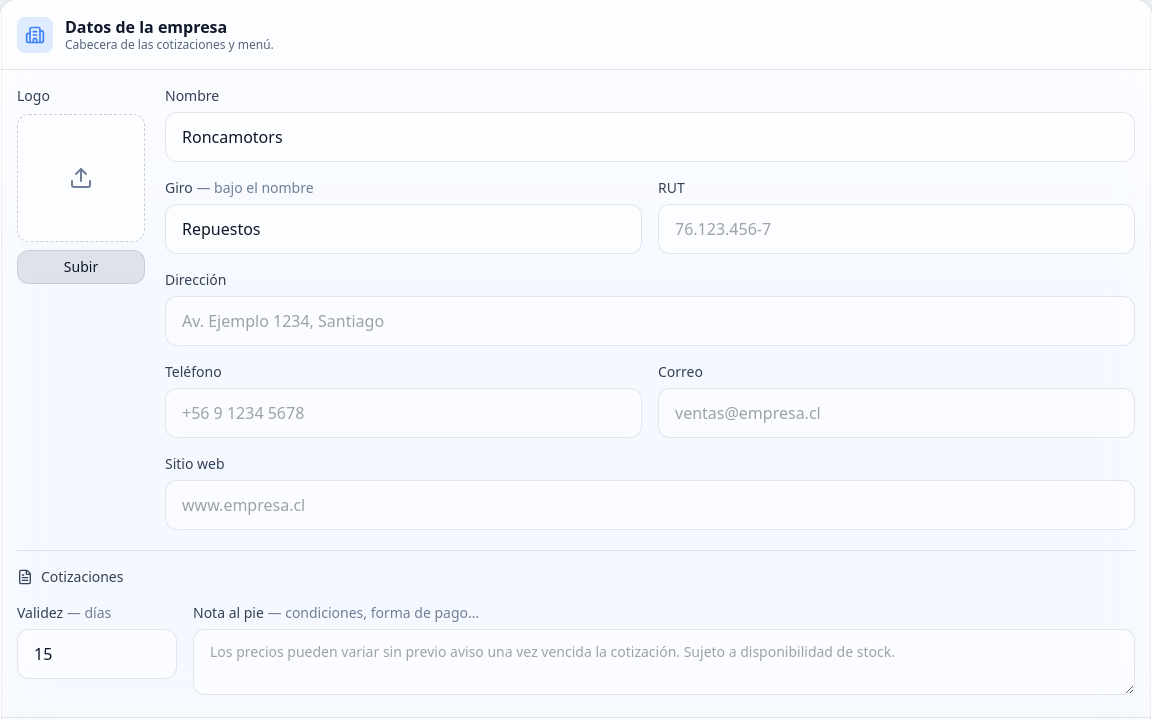
Test: Datos de la empresa › guarda en settings/global con RUT formateado y validez numérica
Type "123456785" into the field labelled "RUT".
click(896, 229); type("123456785")  # box [658,204,1135,254]
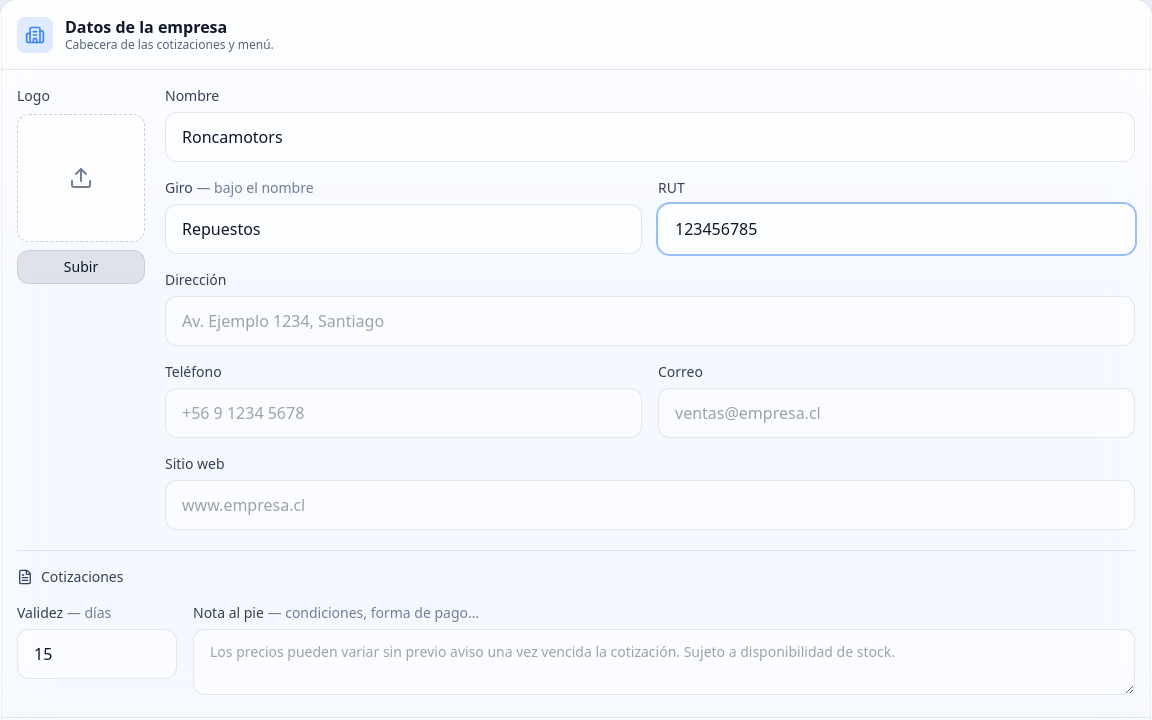
Press Tab
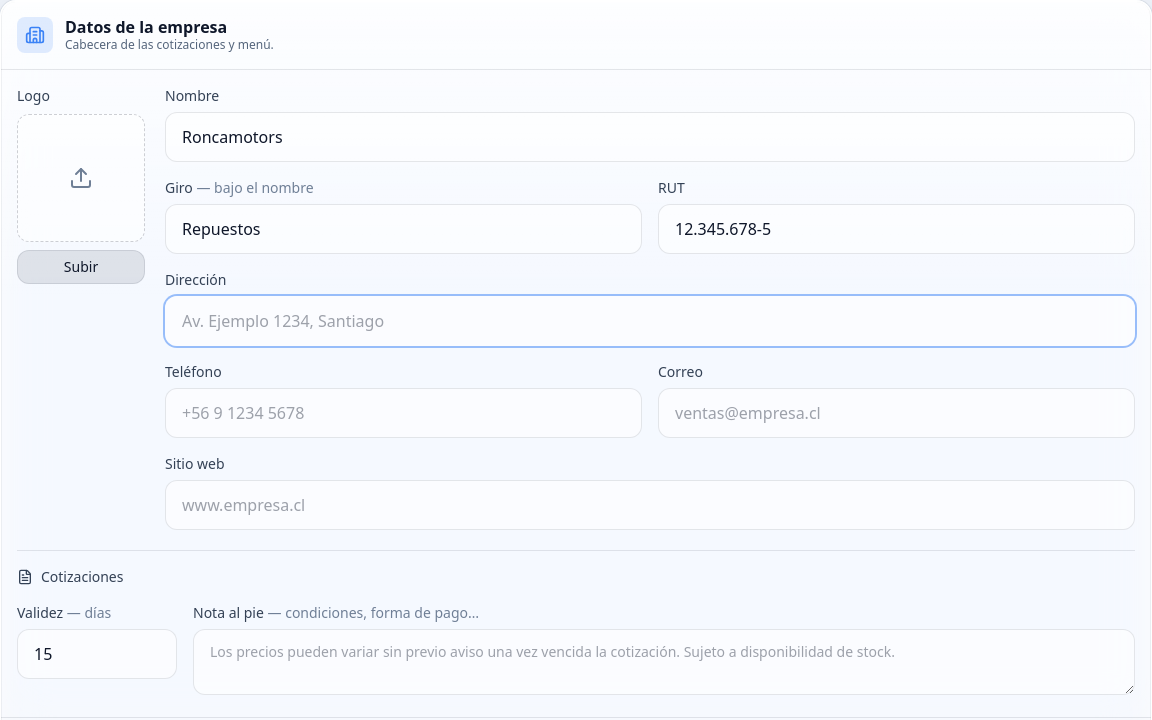
Check: the field labelled "RUT" holds "12.345.678-5", box [658,204,1135,254]
Replace the text in the number field labelled "Validez — días" with "30" at (97, 654), box [17,629,177,679]
(page scrolled)
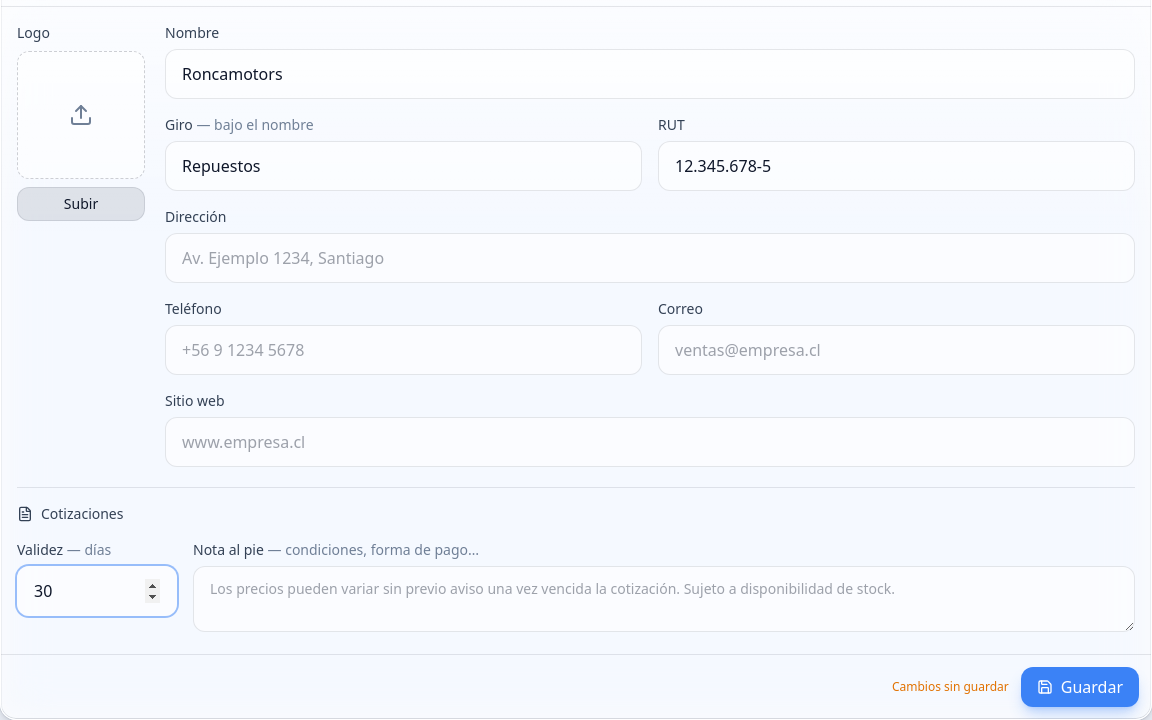
Click the button "Guardar".
click(1080, 687)  # box [1021,667,1139,707]
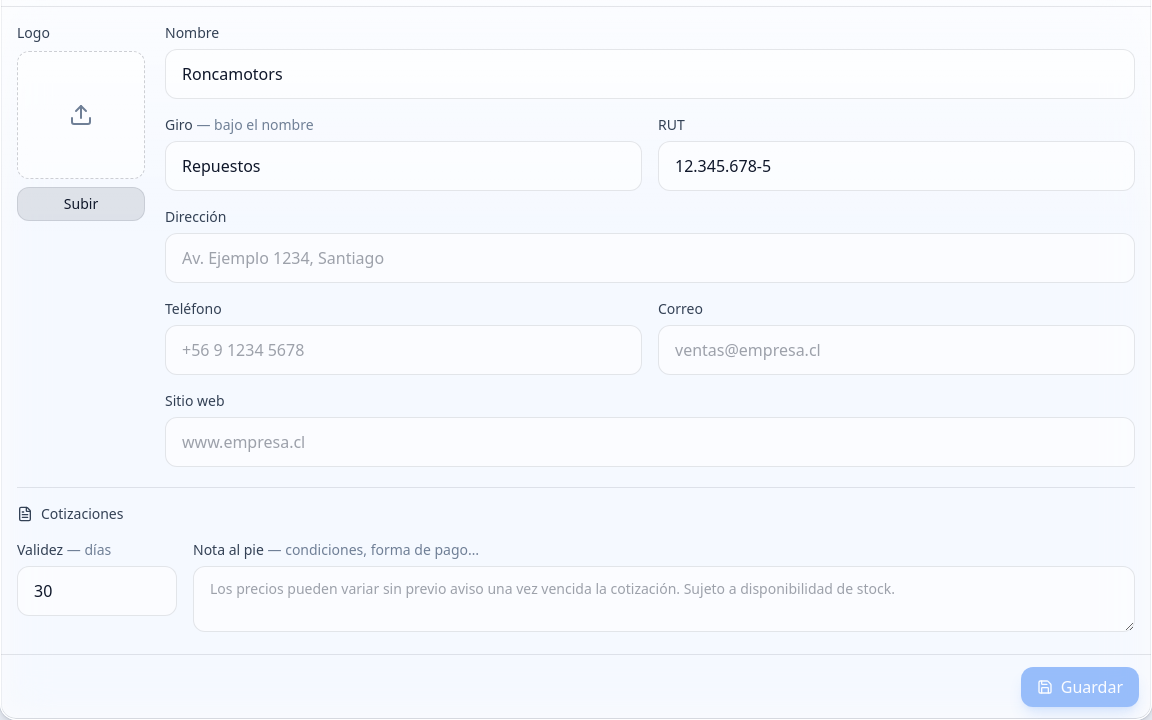
Check: the button "Guardar" is disabled, box [1021,667,1139,707]
